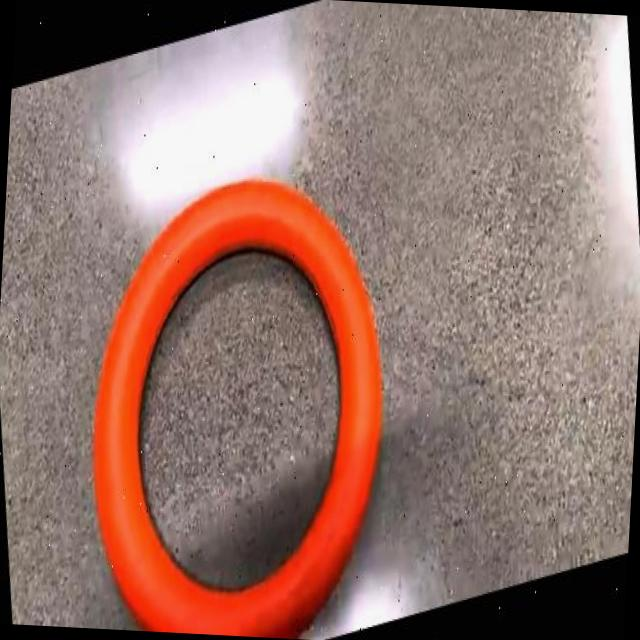note: (94, 180, 382, 639)
